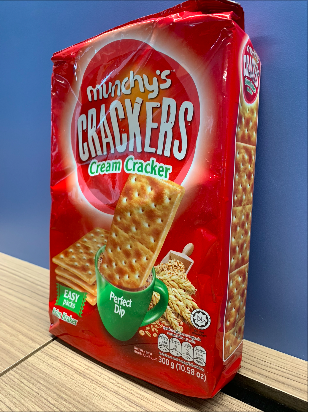Crackers_300-399g: (56, 75, 221, 365)
